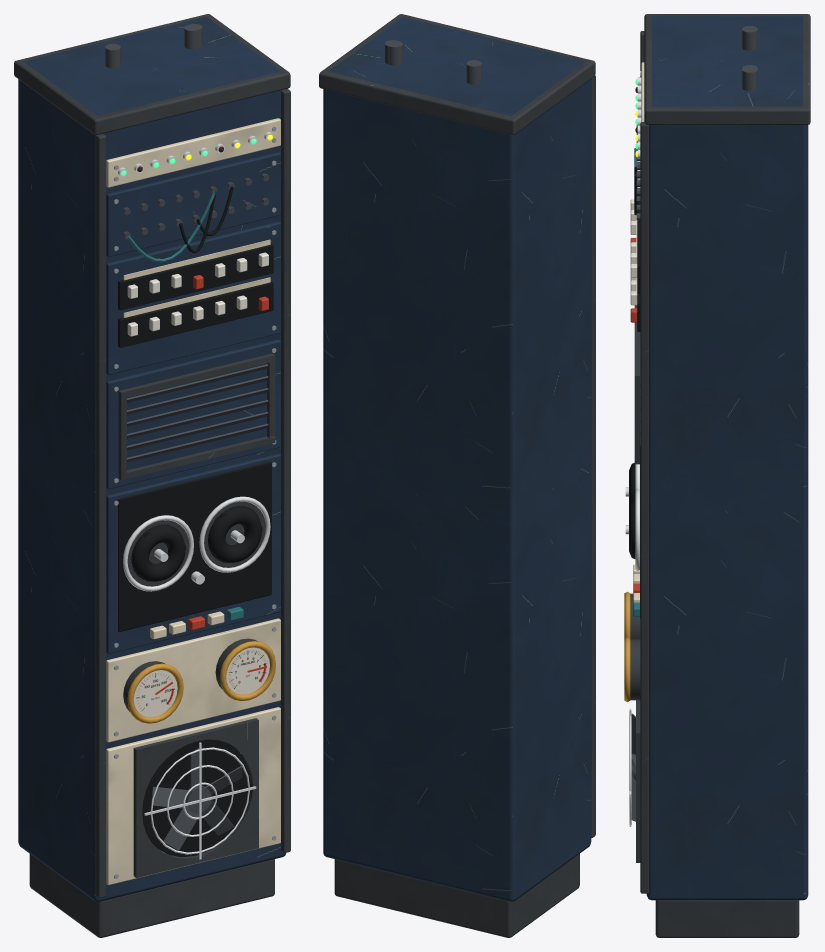
The model's file is Rack_50_3.glb.
3 renders of one model, left to right at view 1: azimuth 30°, elevation 25°; view 2: azimuth 150°, elevation 25°; view 3: azimuth 270°, elevation 25°, orthographic.
Visible parts, largest first — view 1: Rack_50_3_Body; view 2: Rack_50_3_Body; view 3: Rack_50_3_Body.
Boxes of the visible parts, x1=… form: Rack_50_3_Body: x1=14, y1=14, x2=290, y2=937; Rack_50_3_Body: x1=319, y1=14, x2=595, y2=937; Rack_50_3_Body: x1=624, y1=14, x2=810, y2=937.
Size of the model in its own units: 0.51 by 2.1 by 0.4148.
17 materials, 8 textured.
